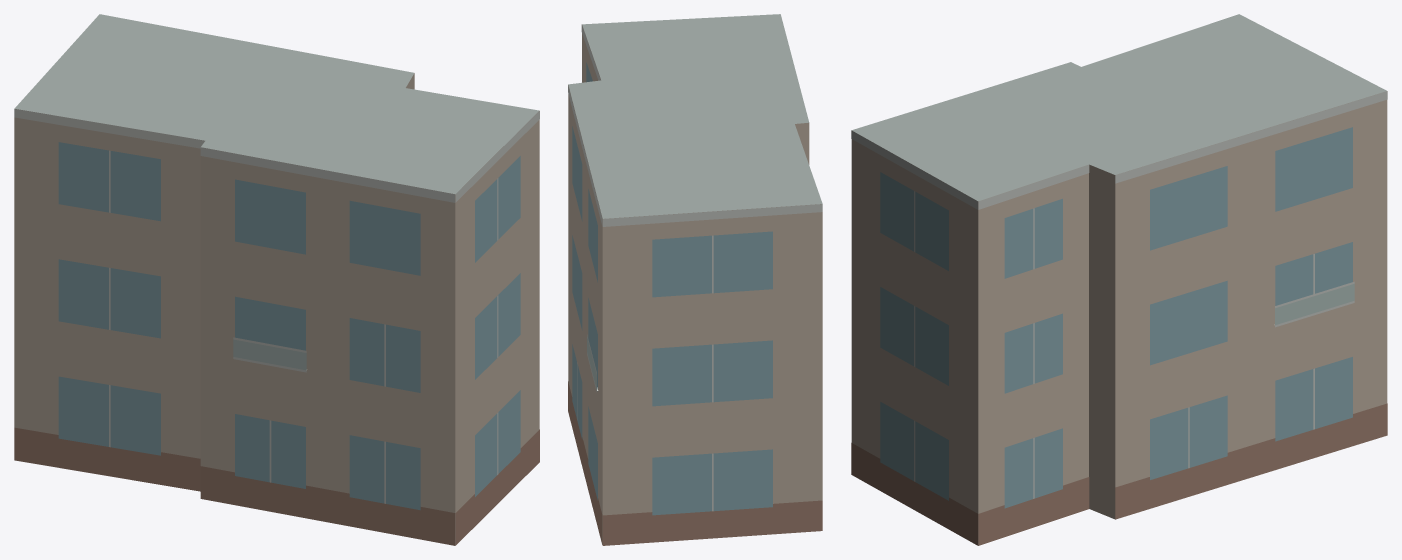
Rendered from survey-upis-32500606.glb.
3 renders of one model, left to right at view 1: azimuth 30°, elevation 25°; view 2: azimuth 150°, elevation 25°; view 3: azimuth 270°, elevation 25°, orthographic. The views are drawn at different scales.
Visible parts, largest first — view 1: survey-upis-32500606.tmp; view 2: survey-upis-32500606.tmp; view 3: survey-upis-32500606.tmp.
Boxes of the visible parts, box(x1,y1,x2,y2) form: survey-upis-32500606.tmp: box(14, 14, 539, 545); survey-upis-32500606.tmp: box(568, 14, 822, 545); survey-upis-32500606.tmp: box(851, 14, 1387, 545).
Bounding box in the file's own units: 11.44 × 9.8 × 13.83.
